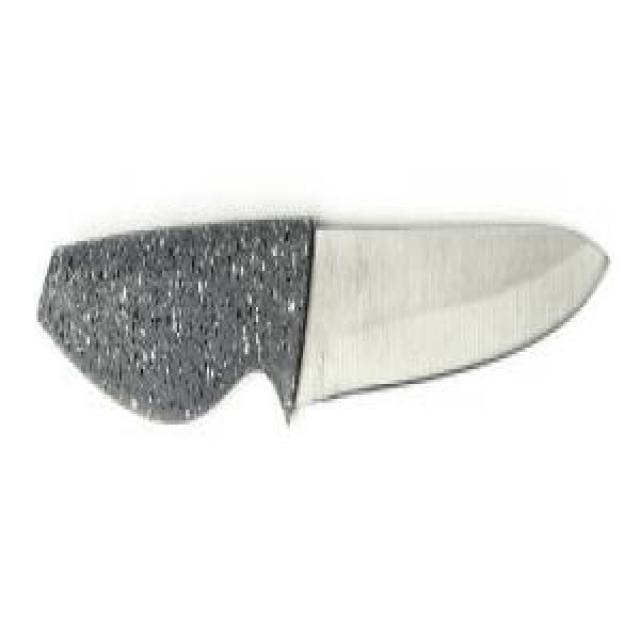knife: (36, 181, 617, 480)
